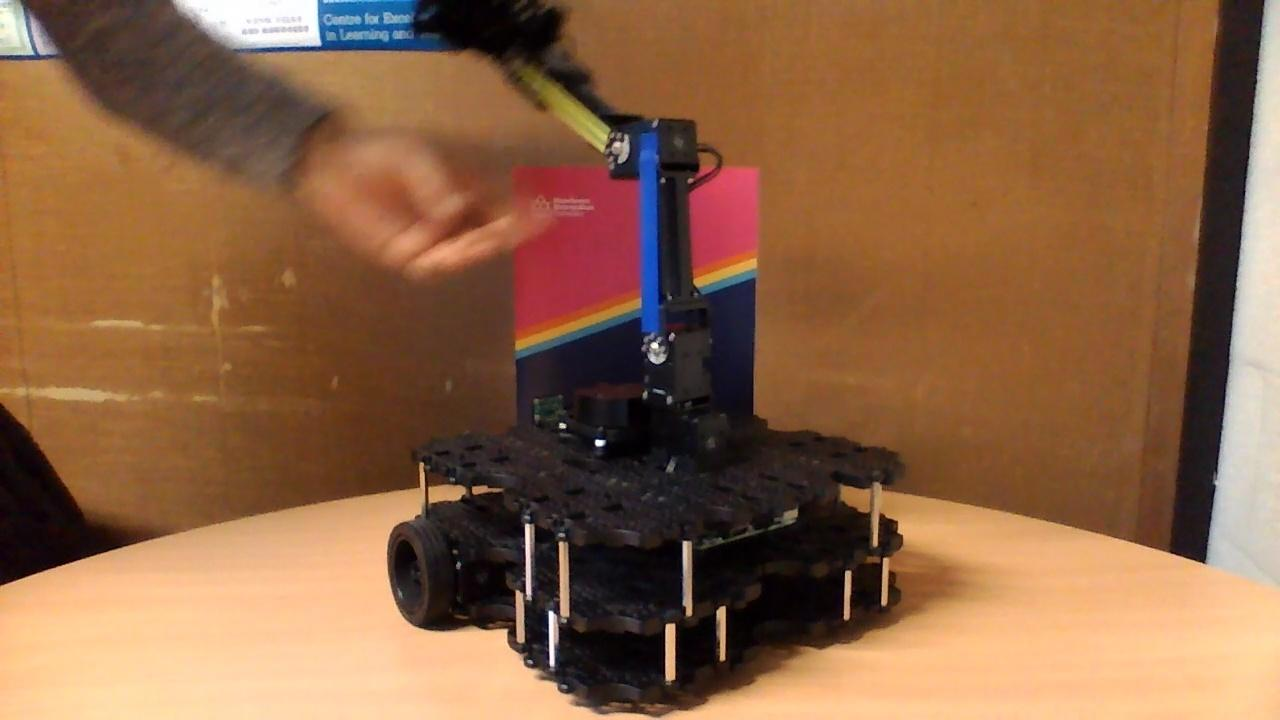Arm: (631, 114, 712, 376)
Hand: (409, 0, 573, 62)
Wrist: (497, 34, 635, 171)
base: (381, 381, 911, 709)
